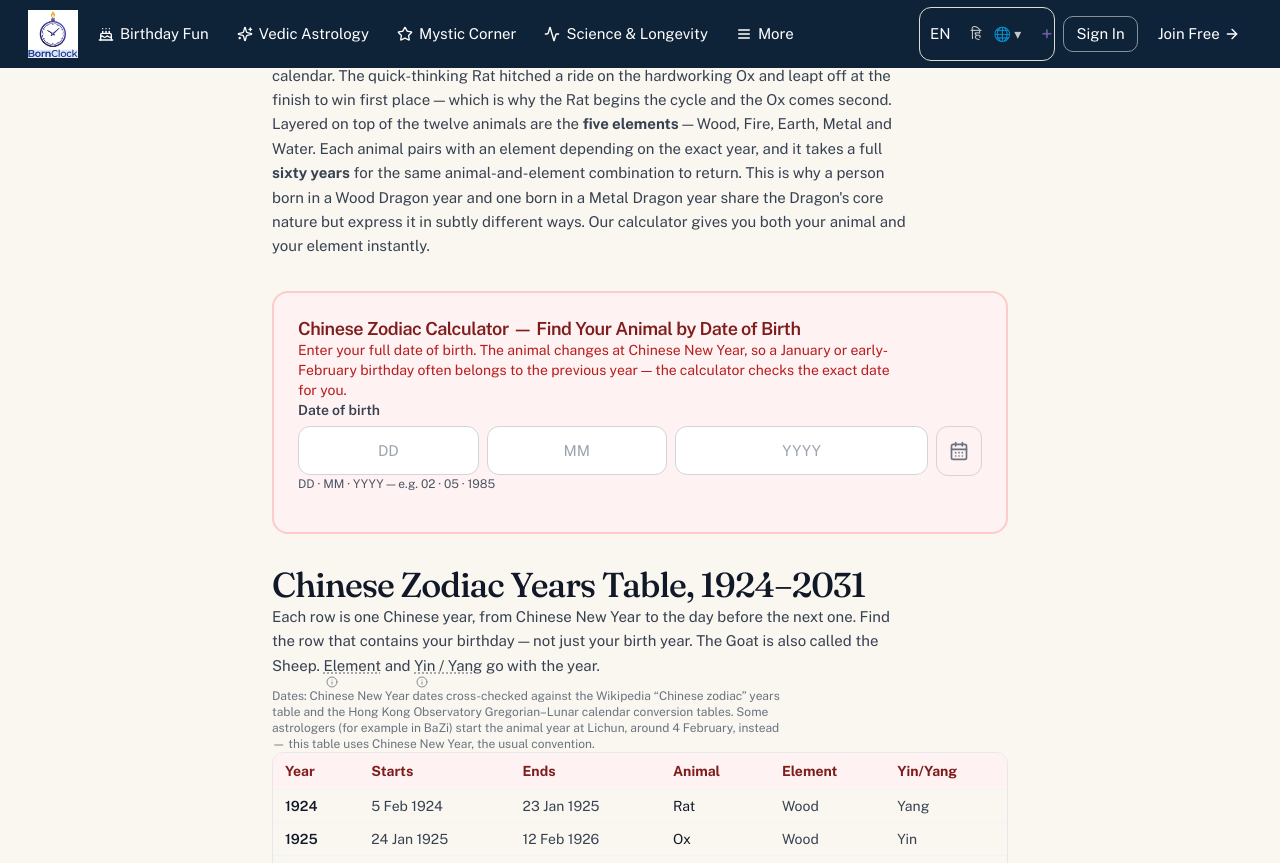
it: ChineseZodiacArticle › TC-CHZ-P-07b: 20-01-1998 is Fire Ox (before Chinese New Year 28 Jan 1998), not Earth Tiger
(page scrolled)
In the field with id "cz-dob-day": (388, 451) [298,426,479,475], type "20"
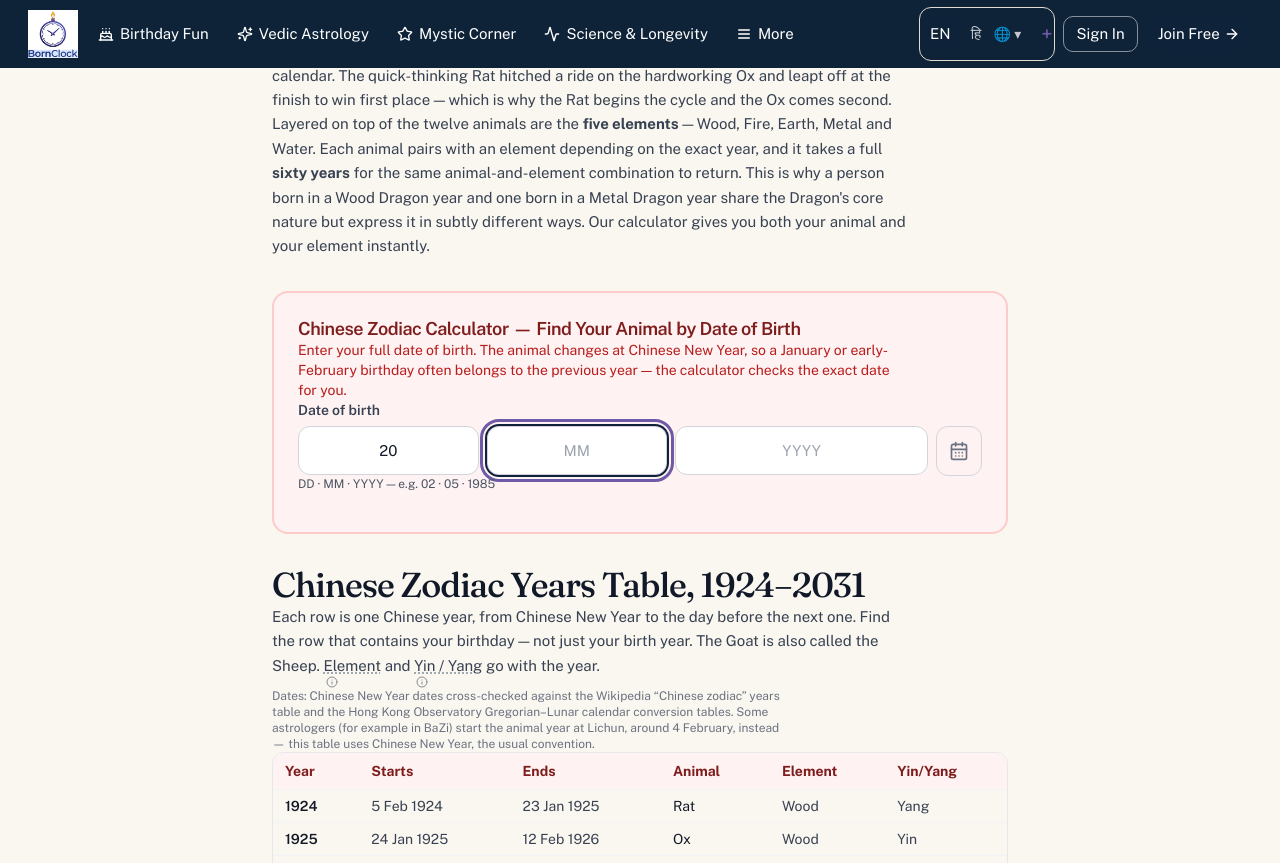
In the field with id "cz-dob-month": (577, 451) [487,426,667,475], type "01"
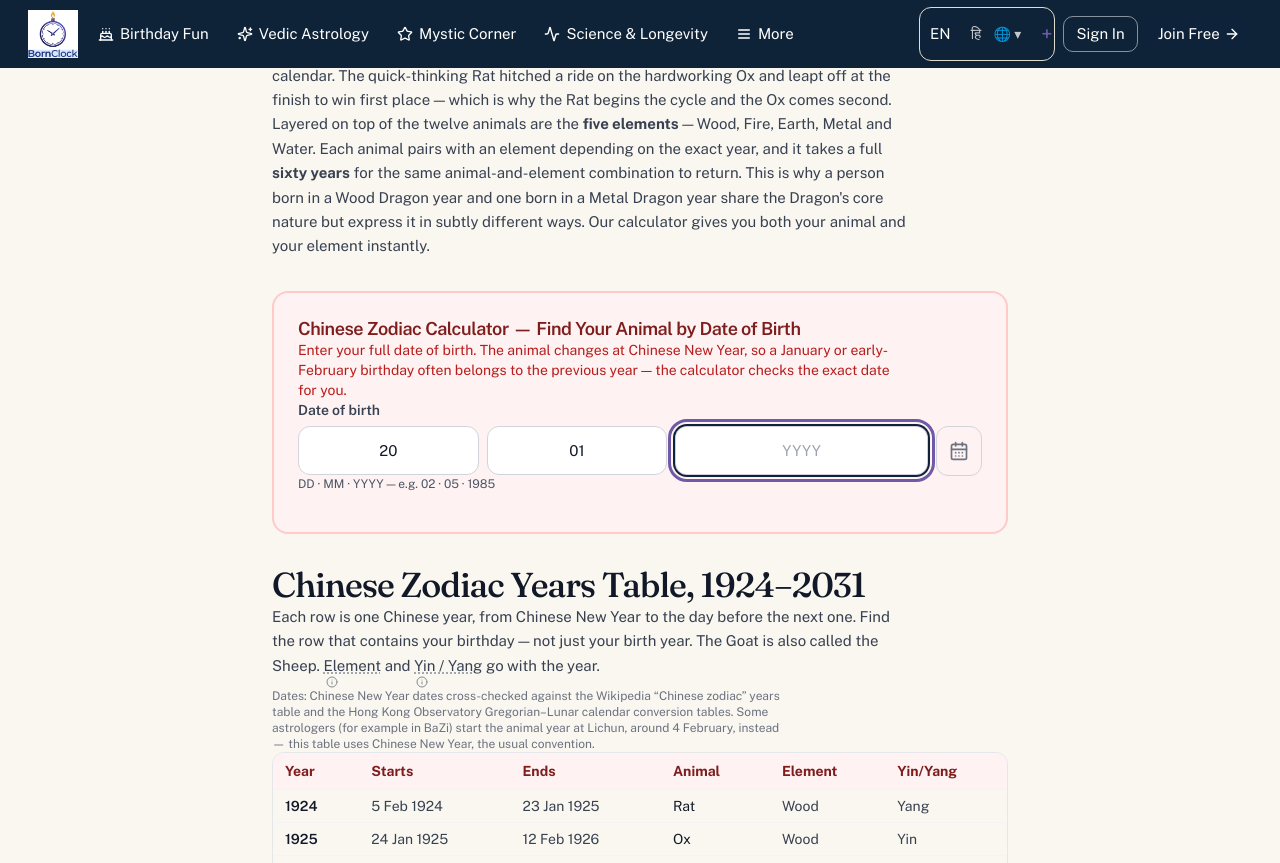
In the field with id "cz-dob-year": (802, 451) [675,426,928,475], type "1998"
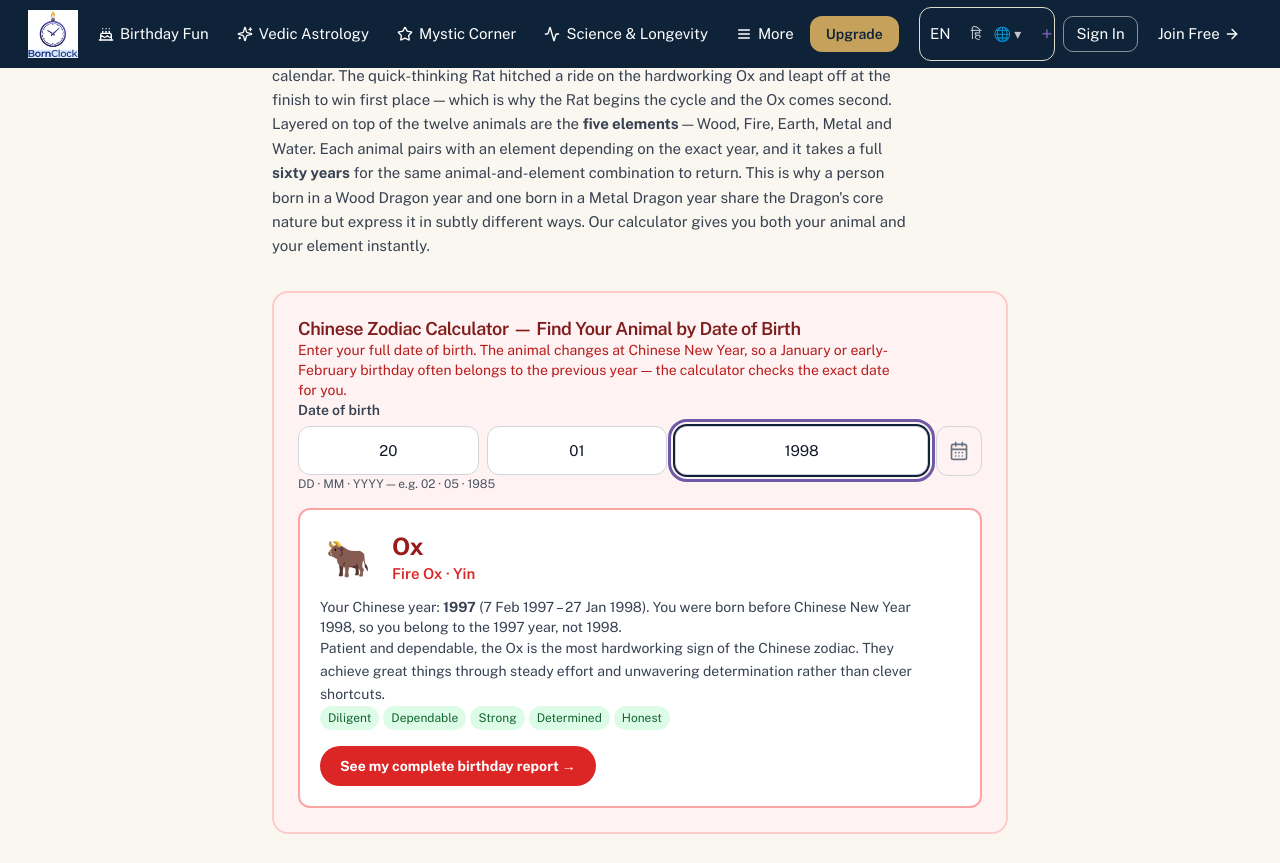
Expected: the element with test id "chinese-zodiac-result" does not show "Tiger"
Result: the element with test id "chinese-zodiac-result" shows "Fire Ox" at [298,508,982,808]
